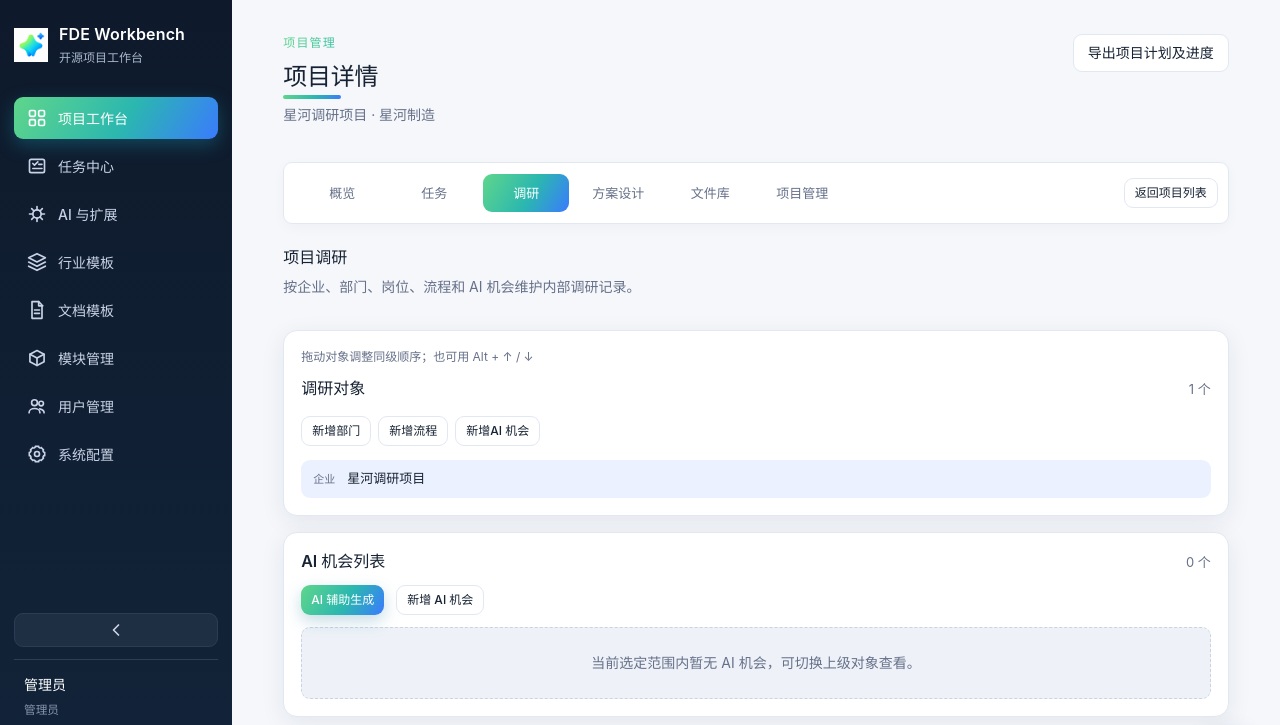
Scenario: project research workspace › refreshes the project aggregate after stale create and retries with its current version
Click the button "新增部门": (336, 431) [301,416,371,446]
(page scrolled)
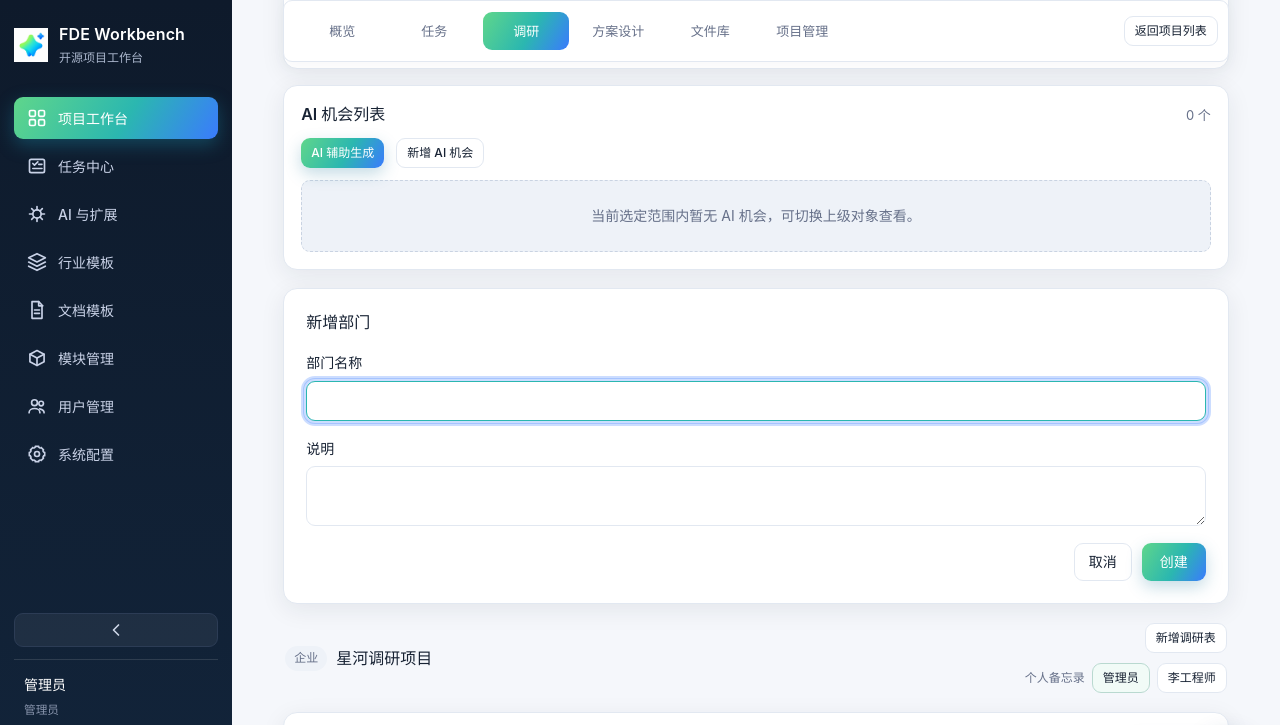
In the field labelled "部门名称": (756, 401) [306,381,1206,421], type "运营部"
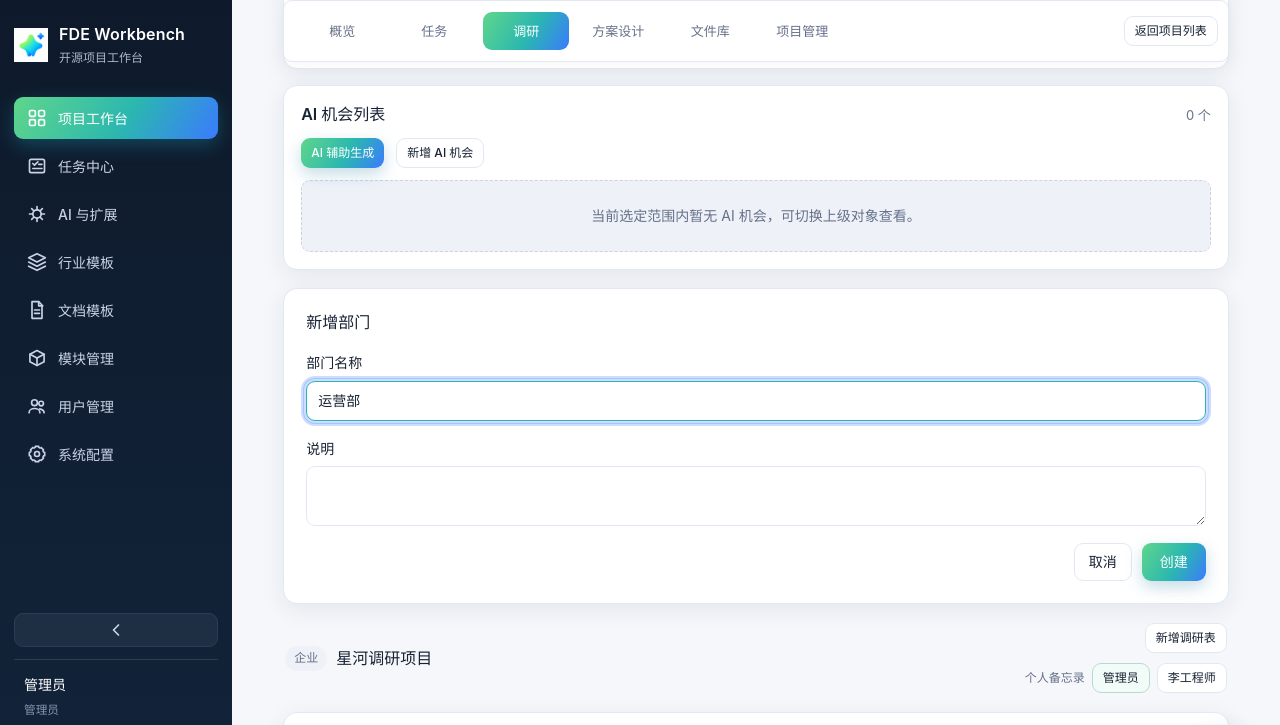
Click the button "创建": (1174, 562) [1142,543,1206,581]
(page scrolled)
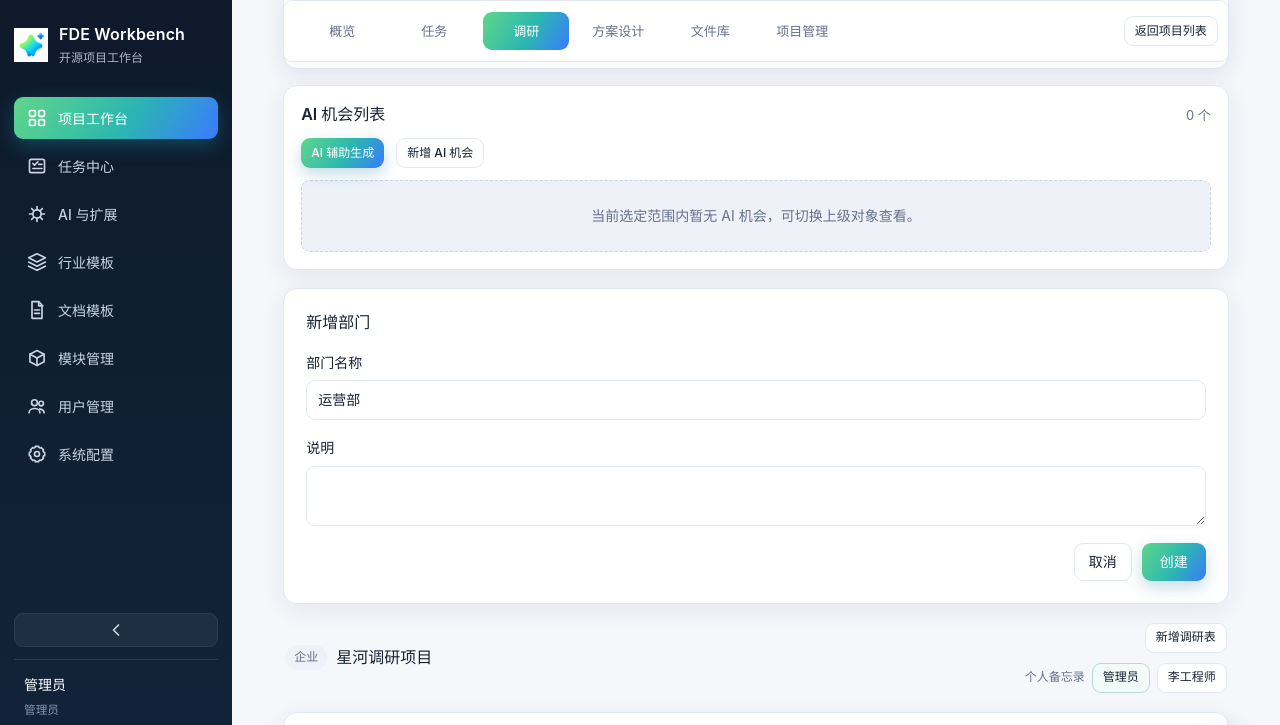
Click the button "创建": (1174, 562) [1142,543,1206,581]
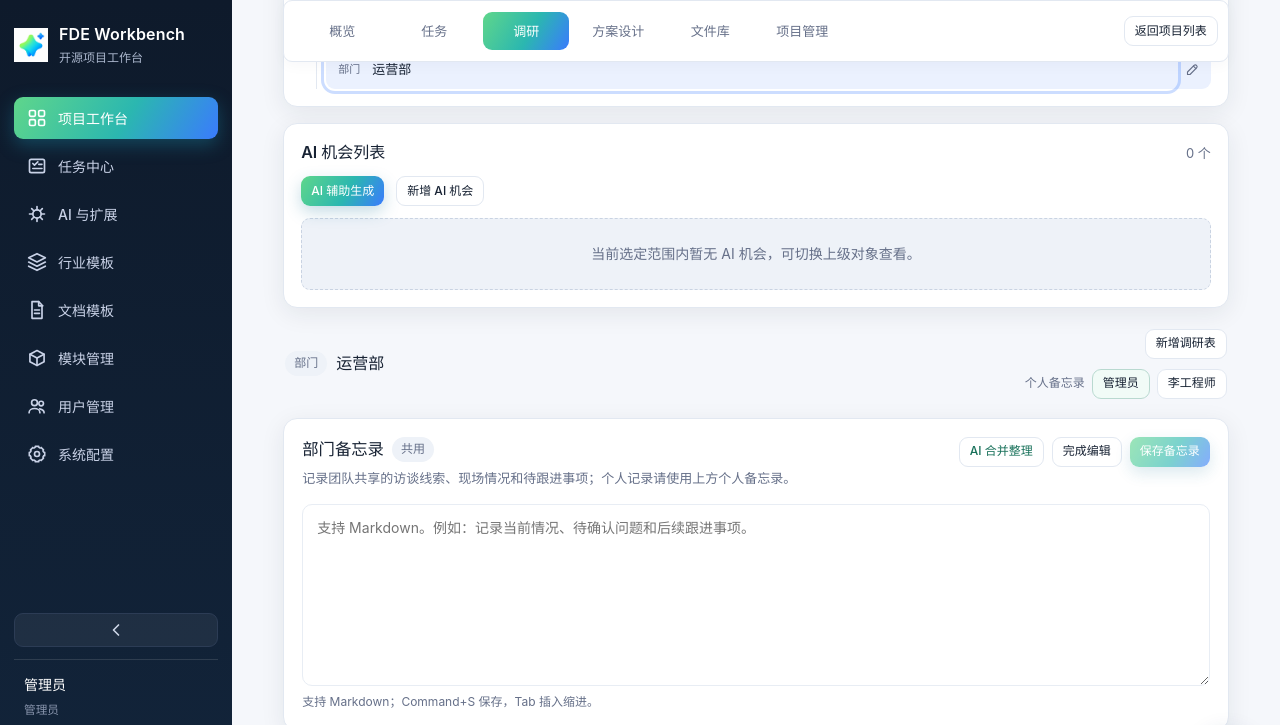
expect the list item "部门 运营部" is shown: met, box [326,51,1176,89]
